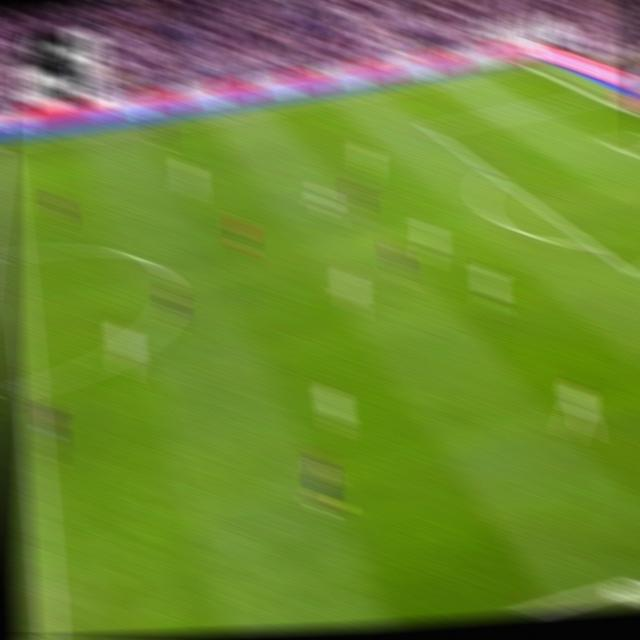bigarea_top_inner: (423, 121, 439, 137)
bottom_arc_area_intersection: (581, 233, 603, 256)
corner: (514, 58, 532, 70)
halfcircle_bottom: (17, 368, 40, 404)
halfcircle_top: (4, 239, 28, 269)
midline_top_intersection: (0, 137, 12, 154)
smallarea_top_inner: (598, 132, 618, 151)
top_arc_area_intersection: (484, 164, 501, 183)
